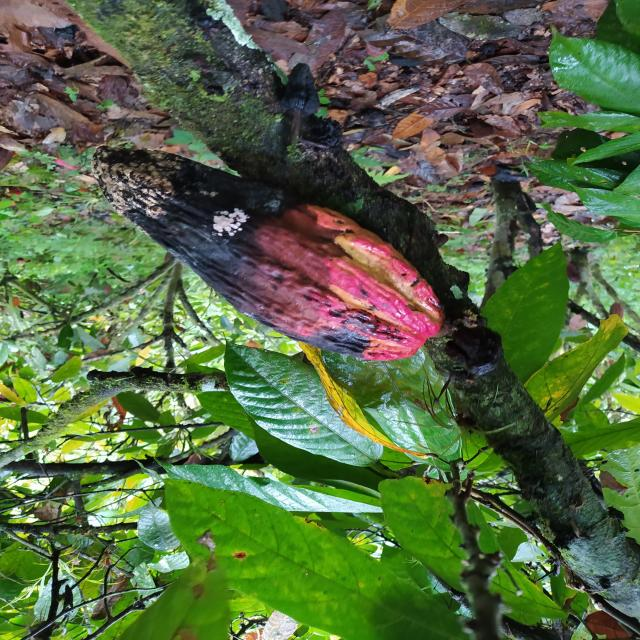Fitoftora: (92, 149, 444, 362)
